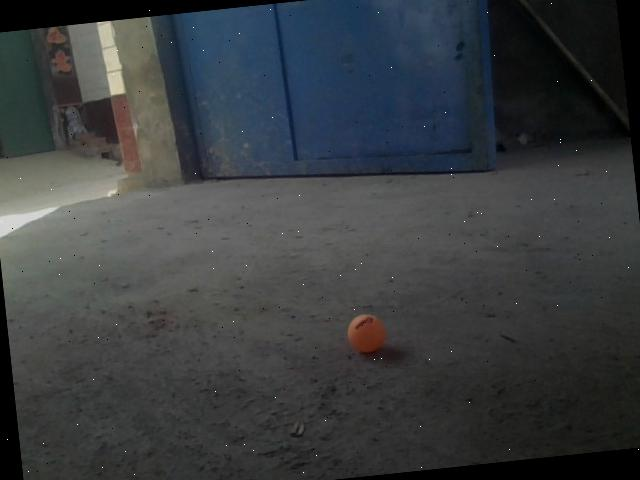ball: (346, 313, 388, 354)
